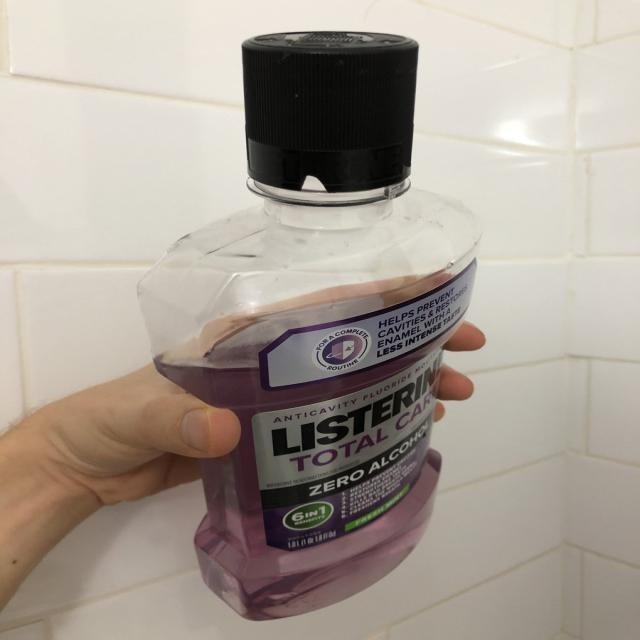plastic: (145, 30, 463, 619)
